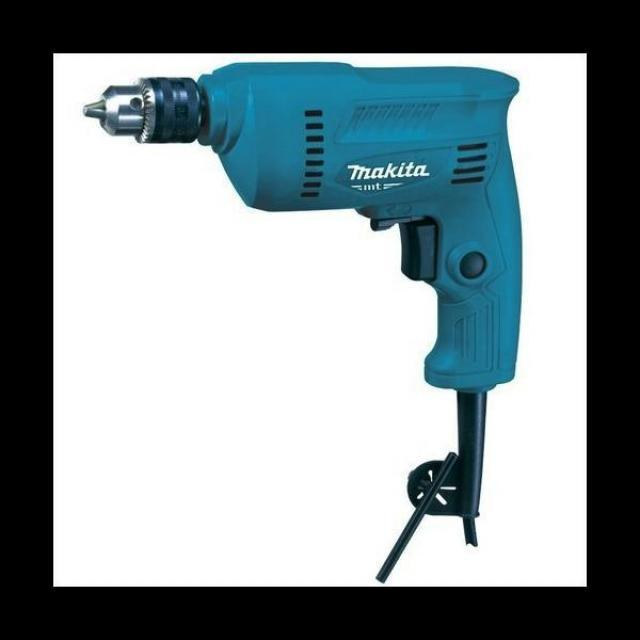drill: (82, 61, 522, 546)
